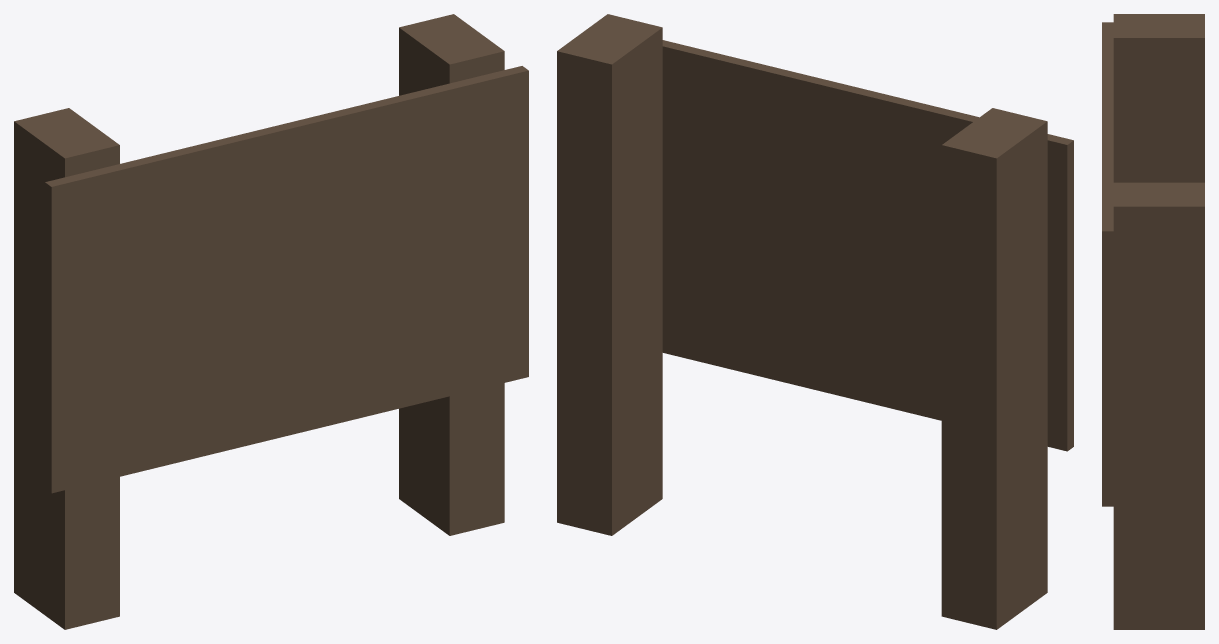
File: Job Board.fbx
3 views of the same model, side by side, from view 1: azimuth 30°, elevation 25°; view 2: azimuth 150°, elevation 25°; view 3: azimuth 270°, elevation 25° (orthographic). The views are drawn at different scales.
Parts seen in each view (by area): view 1: Plane.067; view 2: Plane.067; view 3: Plane.067.
Boxes of the visible parts, left/top/right/bottom form: Plane.067: left=14, top=14, right=528, bottom=629; Plane.067: left=557, top=14, right=1073, bottom=629; Plane.067: left=1102, top=14, right=1204, bottom=629.
Size of the model in its own units: 543 by 512 by 113.
